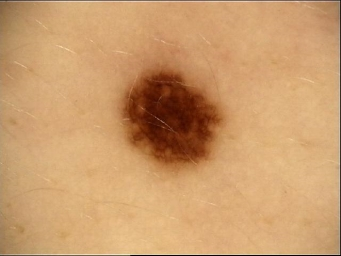melanoma: (126, 74, 221, 165)
